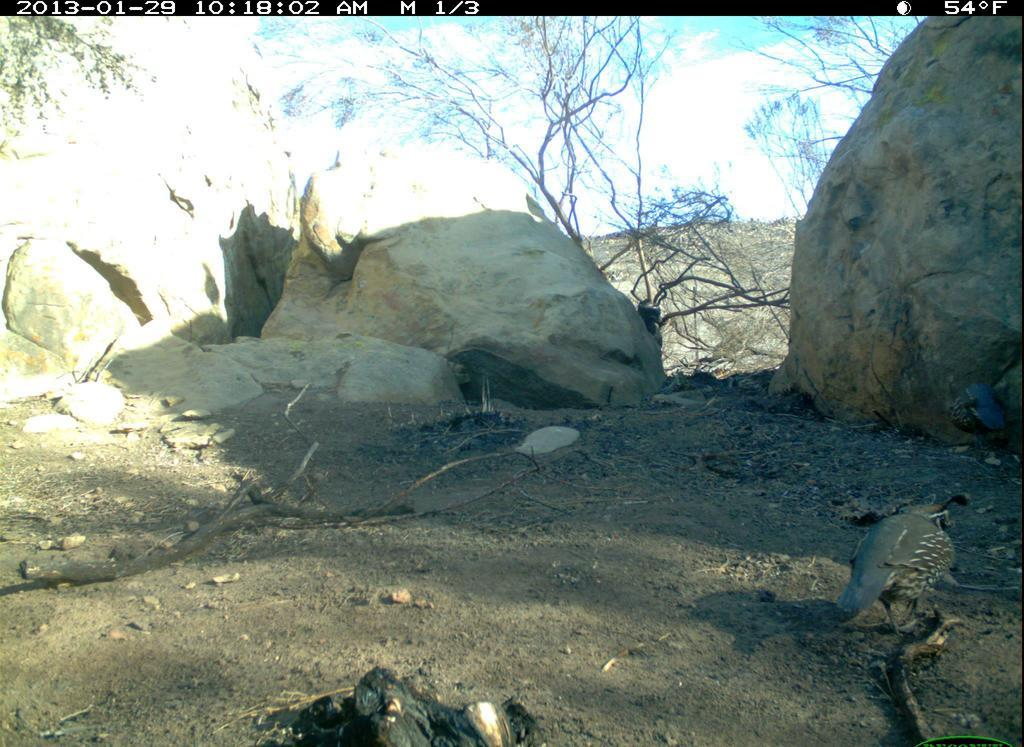bird: (825, 476, 973, 650), (936, 368, 1017, 452)
